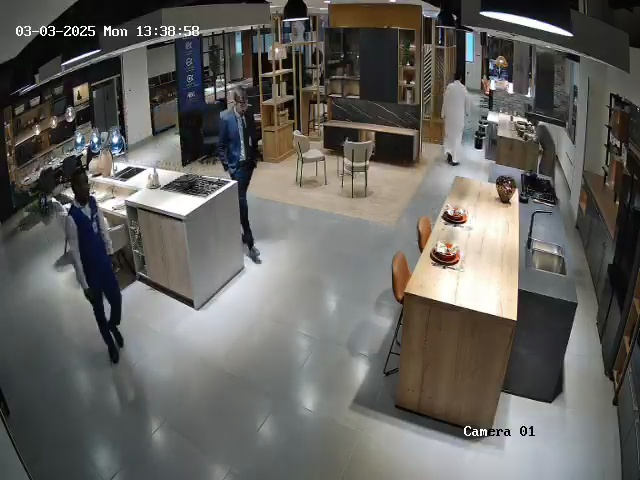employee: (53, 163, 125, 365), (216, 85, 263, 264)
male: (441, 72, 472, 166)
